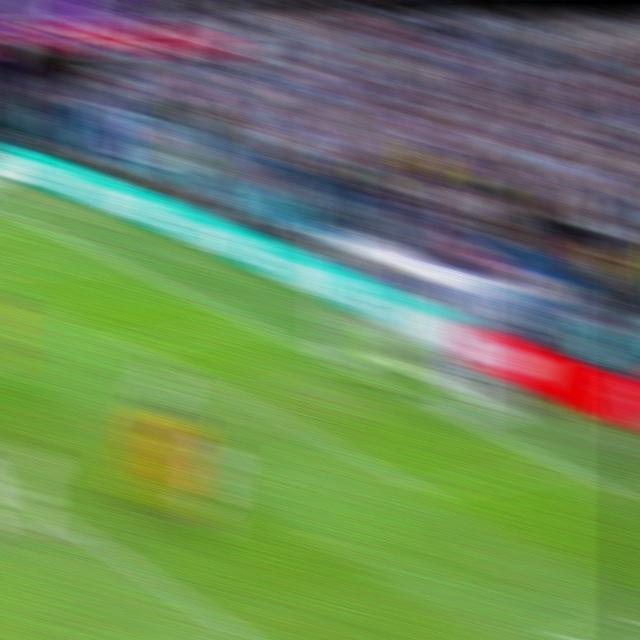bigarea_top_outter: (88, 242, 129, 273)
bottom_arc_area_intersection: (53, 511, 104, 553)
smallarea_bottom_inner: (398, 467, 449, 513)
smallarea_bottom_outter: (537, 448, 583, 483)
smallarea_top_inner: (109, 325, 156, 362)
smallarea_top_outter: (231, 307, 276, 342)
